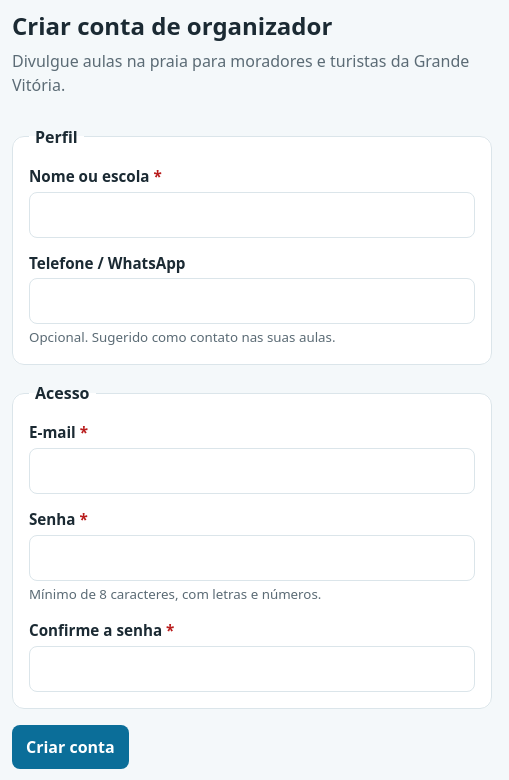
CriarContaPage › mostra e-mail já cadastrado no campo
In the field labelled "Nome ou escola *": (252, 215) [29,192,475,238], type "Ana"
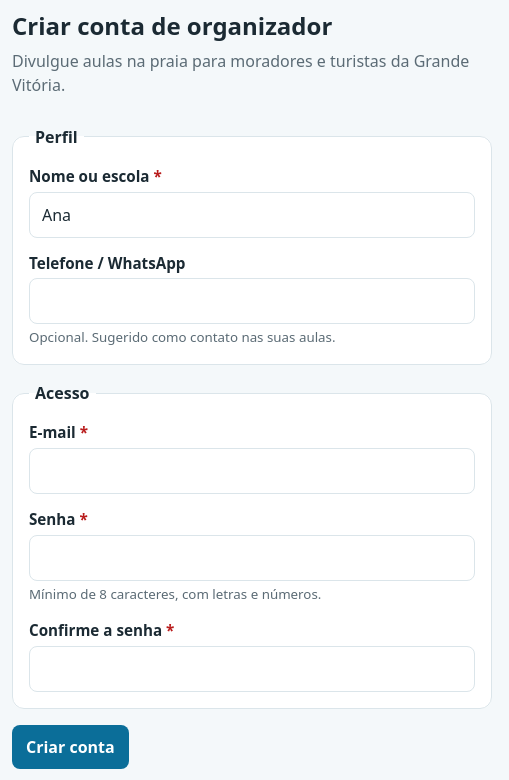
In the field labelled "E-mail *": (252, 471) [29,448,475,494], type "ana@exemplo.com"
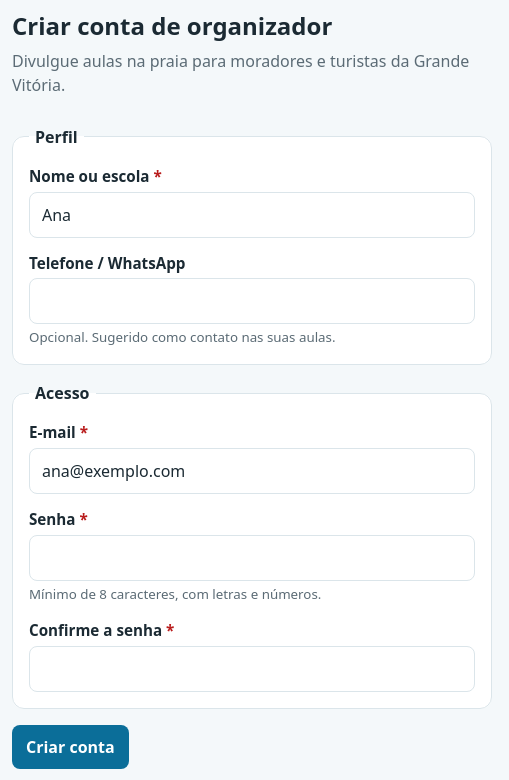
In the password field labelled "Senha *": (252, 558) [29,535,475,581], type "senha1234"
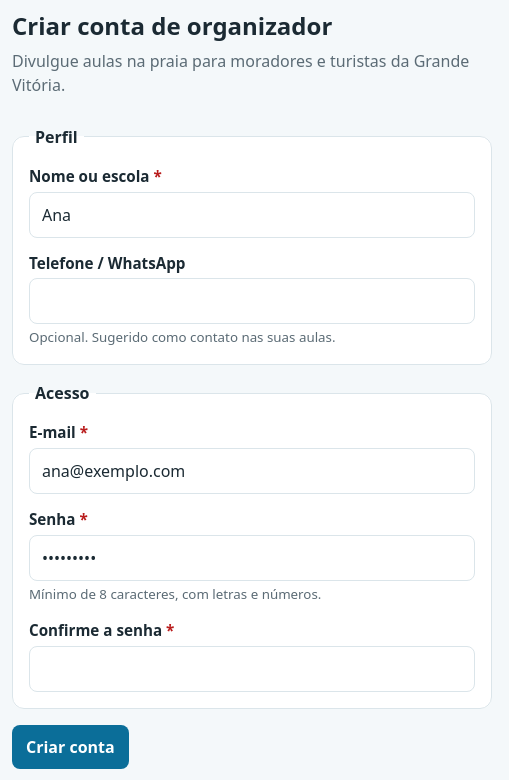
In the password field labelled "Confirme a senha *": (252, 669) [29,646,475,692], type "senha1234"
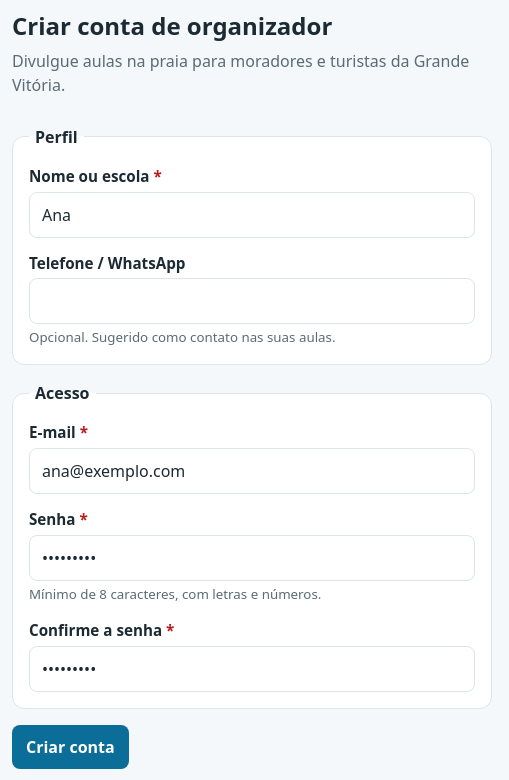
Click the button "Criar conta": click(70, 747) [12,725,129,769]
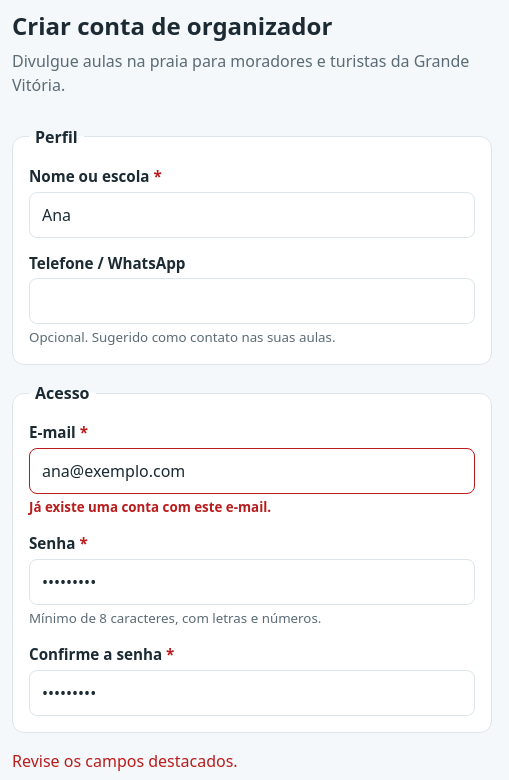
Expected: the text "Já existe uma conta com este e-mail." is shown, [29,498,271,516]
